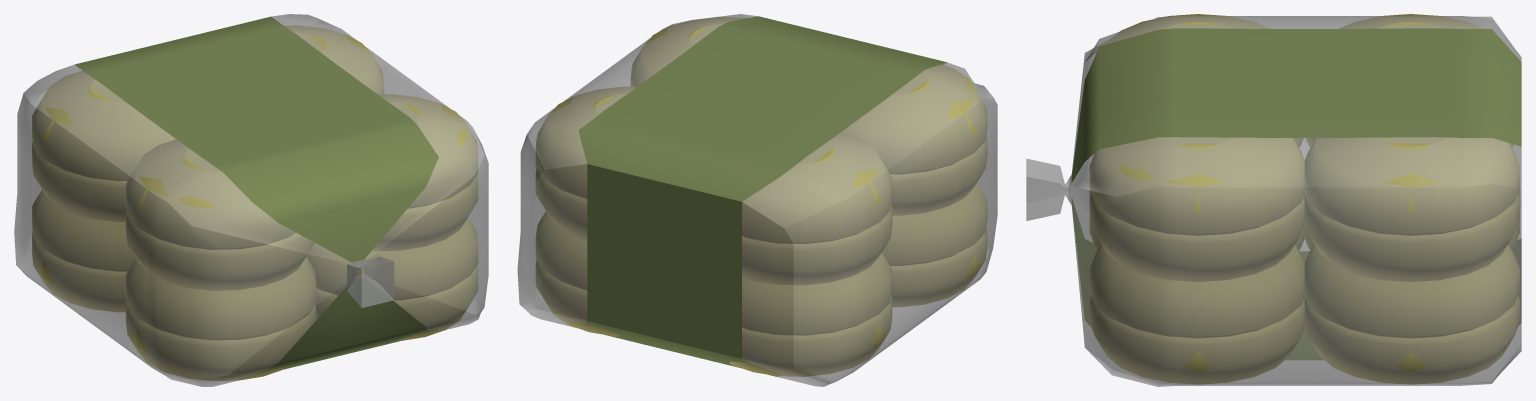
Rendered from hamburger_buns.fbx.
3 renders of one model, left to right at view 1: azimuth 30°, elevation 25°; view 2: azimuth 150°, elevation 25°; view 3: azimuth 270°, elevation 25°, orthographic. The views are drawn at different scales.
Parts seen in each view (by area): view 1: pCube1, pCylinder11, pCylinder14, pCylinder1, pCylinder12, pCylinder2, pCylinder3, pCylinder9, pCylinder7, pCylinder8, pCylinder13, pCylinder10 (+2 smaller); view 2: pCube1, pCylinder14, pCylinder11, pCylinder7, pCylinder8, pCylinder13, pCylinder1, pCylinder16, pCylinder12, pCylinder2, pCylinder9, pCylinder5 (+2 smaller); view 3: pCube1, pCylinder16, pCylinder9, pCylinder5, pCylinder3, pCylinder15, pCylinder6, pCylinder10, pCylinder4, pCylinder11, pCylinder14.
Part boxes in pixels (x1=…): pCube1: x1=14, y1=14, x2=488, y2=386; pCylinder11: x1=125, y1=139, x2=295, y2=249; pCylinder14: x1=32, y1=70, x2=175, y2=181; pCylinder1: x1=125, y1=257, x2=316, y2=340; pCylinder12: x1=125, y1=211, x2=314, y2=290; pCylinder2: x1=125, y1=302, x2=316, y2=381; pCylinder3: x1=306, y1=217, x2=478, y2=300; pCylinder9: x1=378, y1=94, x2=478, y2=208; pCylinder7: x1=32, y1=190, x2=135, y2=271; pCylinder8: x1=32, y1=233, x2=127, y2=312; pCylinder13: x1=32, y1=142, x2=127, y2=221; pCylinder10: x1=372, y1=174, x2=478, y2=251; pCube1: x1=517, y1=14, x2=997, y2=386; pCylinder14: x1=742, y1=132, x2=892, y2=243; pCylinder11: x1=842, y1=64, x2=987, y2=174; pCylinder7: x1=742, y1=253, x2=892, y2=335; pCylinder8: x1=729, y1=296, x2=892, y2=376; pCylinder13: x1=742, y1=205, x2=892, y2=285; pCylinder1: x1=882, y1=183, x2=987, y2=265; pCylinder16: x1=535, y1=86, x2=636, y2=198; pCylinder12: x1=890, y1=135, x2=987, y2=215; pCylinder2: x1=890, y1=227, x2=987, y2=307; pCylinder9: x1=630, y1=17, x2=747, y2=86; pCylinder5: x1=535, y1=211, x2=587, y2=290; pCube1: x1=1026, y1=16, x2=1521, y2=386; pCylinder16: x1=1304, y1=137, x2=1519, y2=235; pCylinder9: x1=1089, y1=137, x2=1304, y2=235; pCylinder5: x1=1304, y1=244, x2=1519, y2=338; pCylinder3: x1=1089, y1=244, x2=1304, y2=338; pCylinder15: x1=1304, y1=193, x2=1519, y2=281; pCylinder6: x1=1304, y1=296, x2=1519, y2=384; pCylinder10: x1=1089, y1=193, x2=1304, y2=281; pCylinder4: x1=1089, y1=296, x2=1304, y2=384; pCylinder11: x1=1106, y1=14, x2=1270, y2=44; pCylinder14: x1=1339, y1=14, x2=1483, y2=28.
Bounding box in the file's own units: 3.96 × 2.27 × 4.56.
